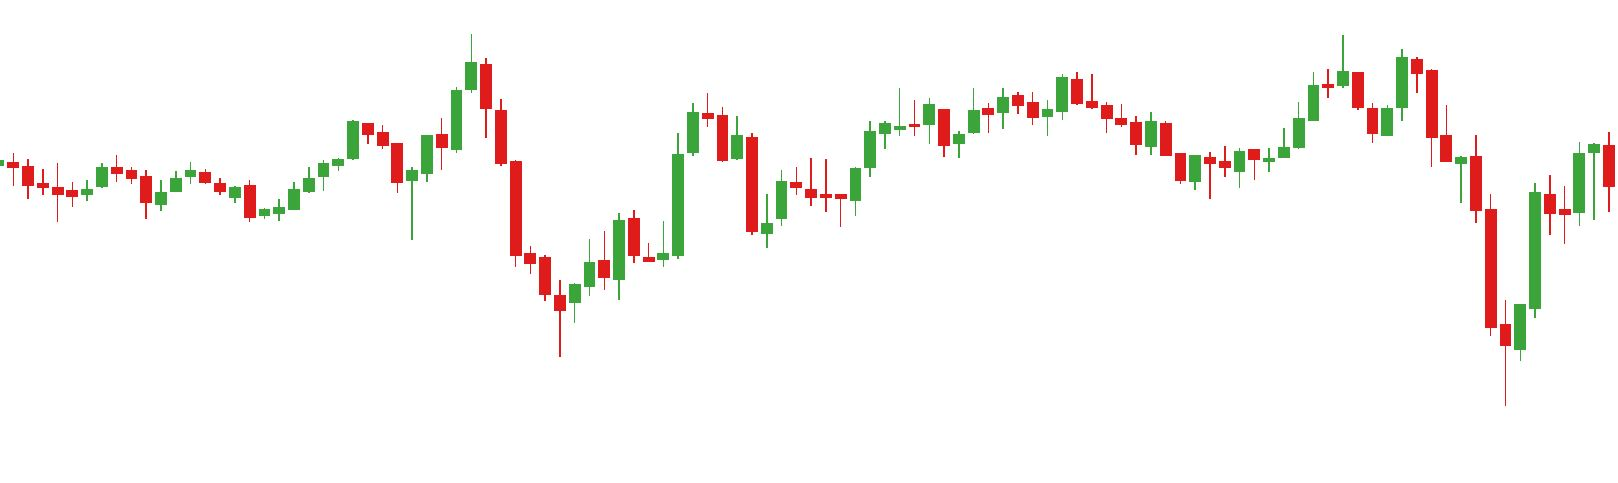buy: (259, 163, 420, 245)
